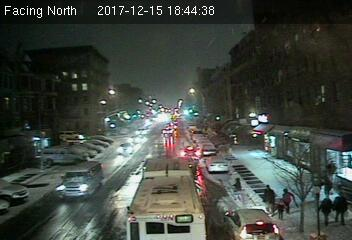bus: (128, 158, 205, 240)
car: (223, 205, 280, 240), (207, 157, 230, 172), (179, 147, 201, 159), (115, 142, 135, 155)
pedestrian: (262, 181, 277, 218), (278, 184, 293, 214), (233, 177, 245, 208)
truck: (54, 162, 102, 198)
